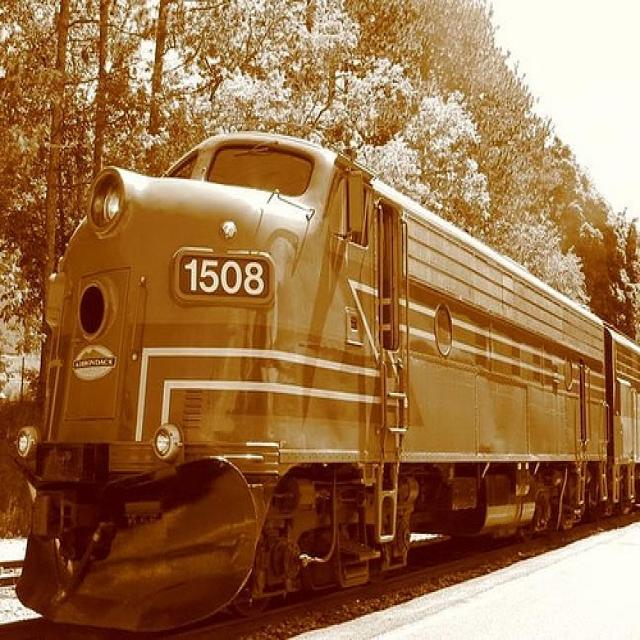train: (18, 131, 639, 633)
